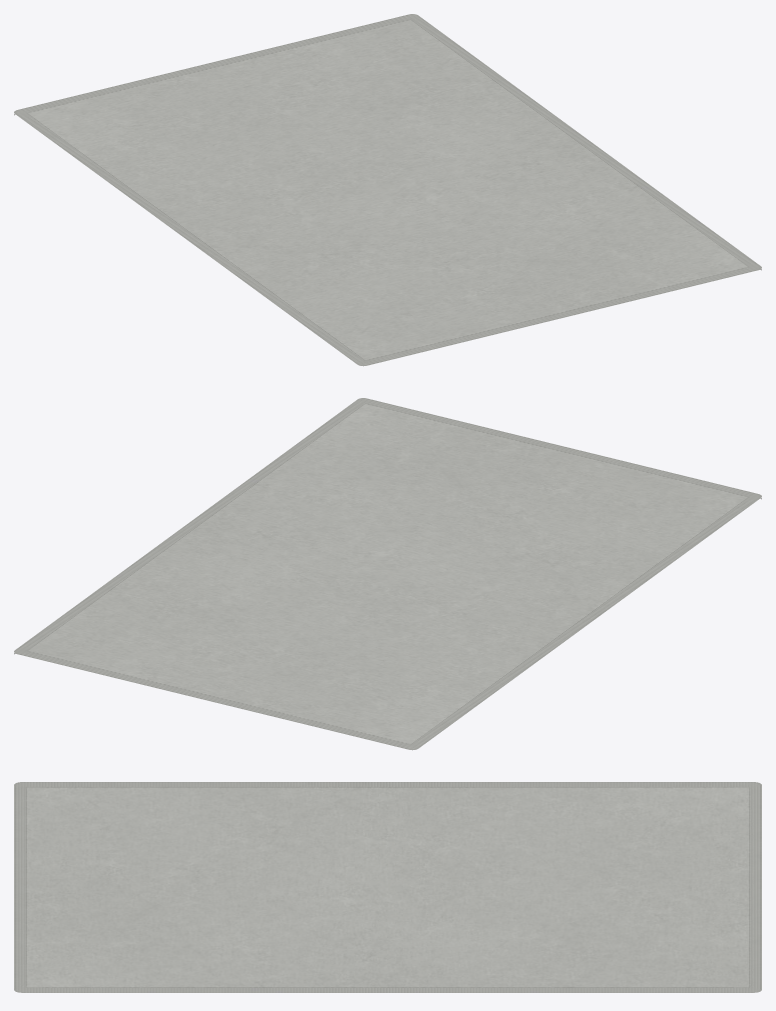
File: gray_S.glb
3 renders of one model, top to bottom at view 1: azimuth 30°, elevation 25°; view 2: azimuth 150°, elevation 25°; view 3: azimuth 270°, elevation 25°, orthographic. The views are drawn at different scales.
Visible parts, largest first — view 1: reliv_gray_S; view 2: reliv_gray_S; view 3: reliv_gray_S.
Boxes of the visible parts, x1,y1,x2,y2 form: reliv_gray_S: (14,14,761,366); reliv_gray_S: (14,398,761,750); reliv_gray_S: (14,782,761,992).
Bounding box in the file's own units: 1 × 0.009 × 1.5.
Materials: 2 (1 with a texture image).
